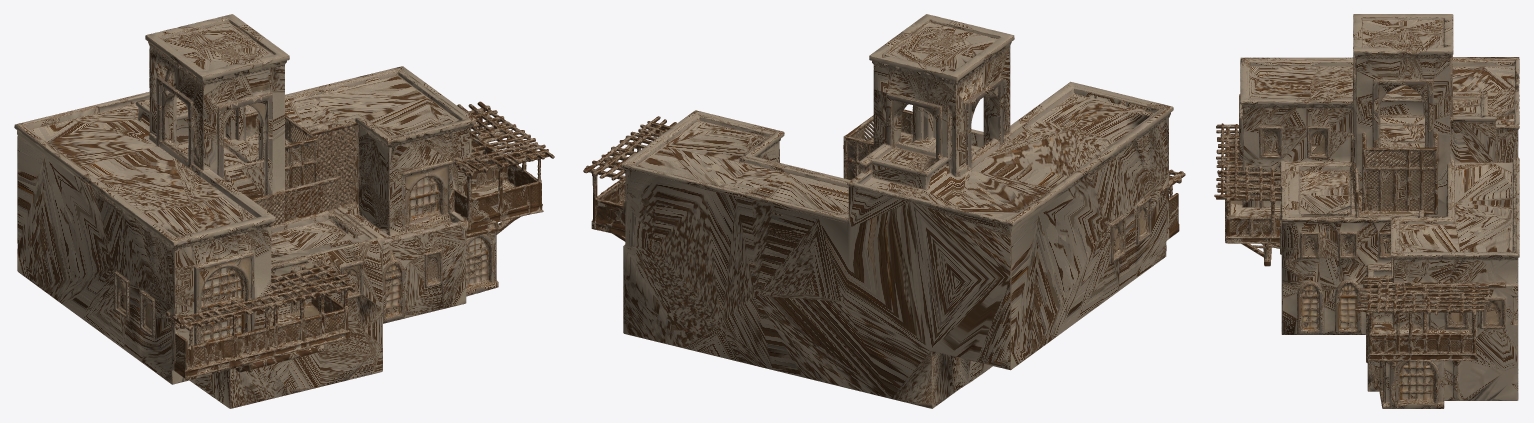
The model's file is lagoon_b.glb.
3 views of the same model, side by side, from view 1: azimuth 30°, elevation 25°; view 2: azimuth 150°, elevation 25°; view 3: azimuth 270°, elevation 25° (orthographic). The views are drawn at different scales.
Size of the model in its own units: 2 by 1.27 by 1.34.
Materials: 1 (1 with a texture image).
